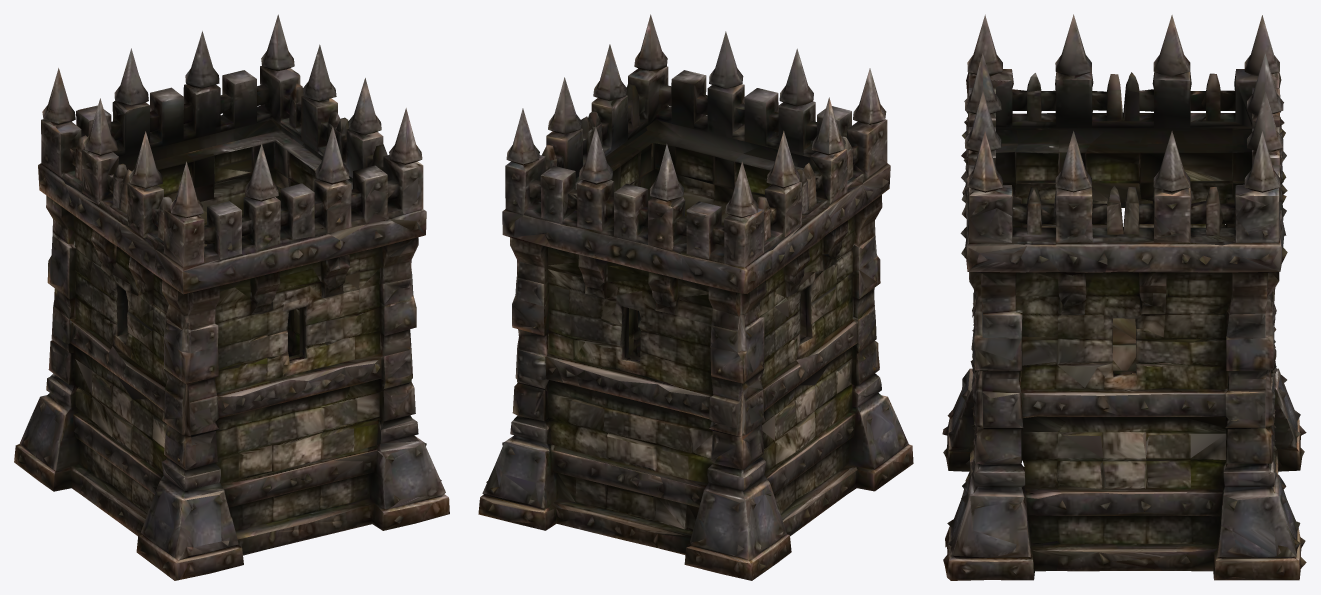
3 views of the same model, side by side, from view 1: azimuth 30°, elevation 25°; view 2: azimuth 150°, elevation 25°; view 3: azimuth 270°, elevation 25° (orthographic). The views are drawn at different scales.
Parts seen in each view (by area): view 1: node_0; view 2: node_0; view 3: node_0.
Part boxes in pixels (left/top/right/bottom): node_0: left=14, top=14, right=449, bottom=580; node_0: left=478, top=14, right=913, bottom=580; node_0: left=942, top=14, right=1306, bottom=580.
Size of the model in its own units: 0.6253 by 0.8487 by 0.6413.
1 material, 1 textured.
